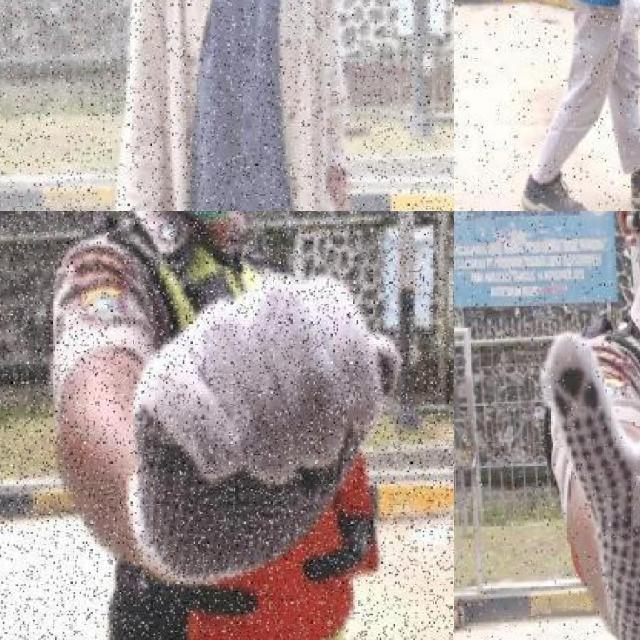apron: (120, 258, 392, 586), (533, 211, 640, 640), (615, 0, 640, 36)
